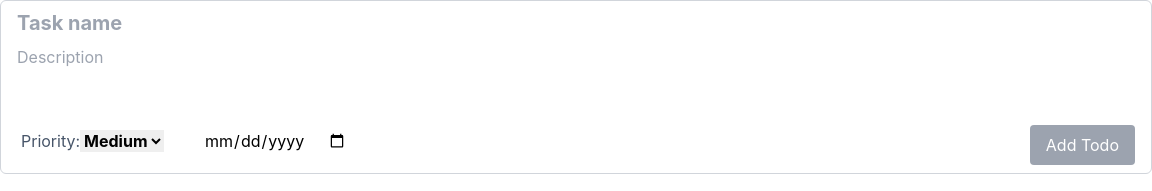
AddTodo Component › enables the Add Todo button when the task name is entered
Type "New Task" into the field with placeholder "Task name".
click(576, 23); type("New Task")  # box left=17, top=9, right=1135, bottom=37
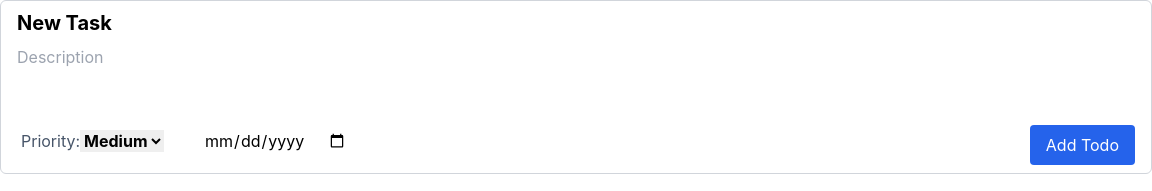
Expected: the button "Add Todo" is enabled, left=1030, top=125, right=1135, bottom=165
